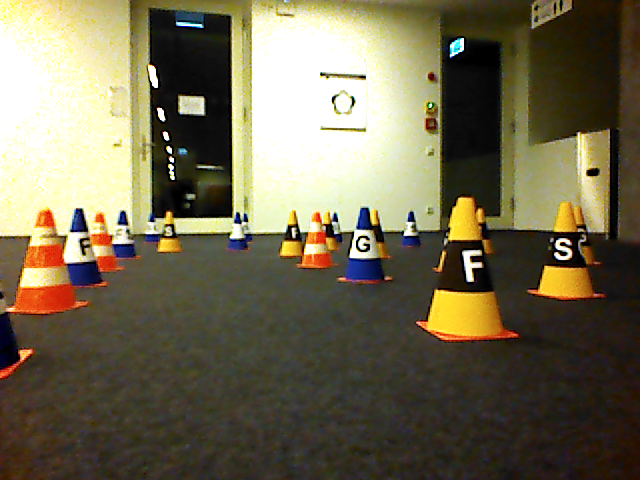bluecone: (70, 209, 94, 287)
orangeconesmall: (7, 209, 69, 317)
yellowcone: (417, 196, 522, 343), (525, 202, 608, 300)
